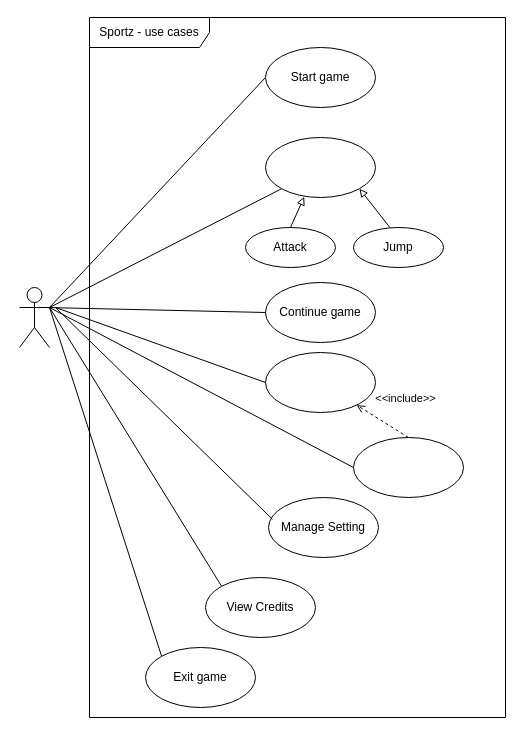
Image size: 523x735. Some labels were removed from this diagram. The shapes that lost their labels are listed below. From the top down, each one's centre as x and y in pixels, then its label:
At point (320, 167): "Play game".
At point (34, 317): "Player".
At point (320, 382): "Pause game".
At point (408, 467): "Abort game".
